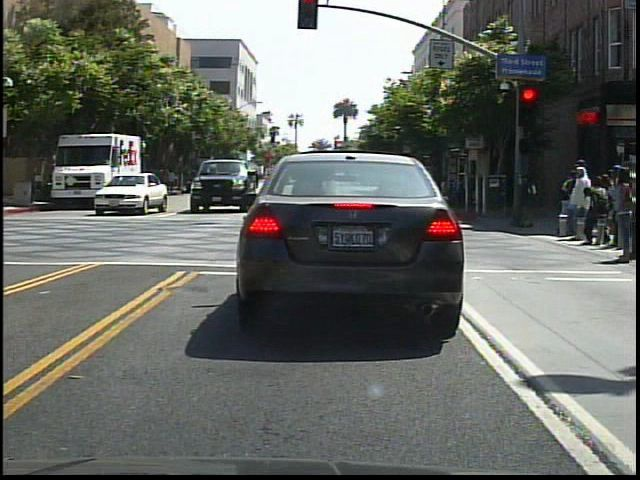person: (567, 161, 600, 256), (407, 160, 440, 226), (519, 166, 543, 231)
